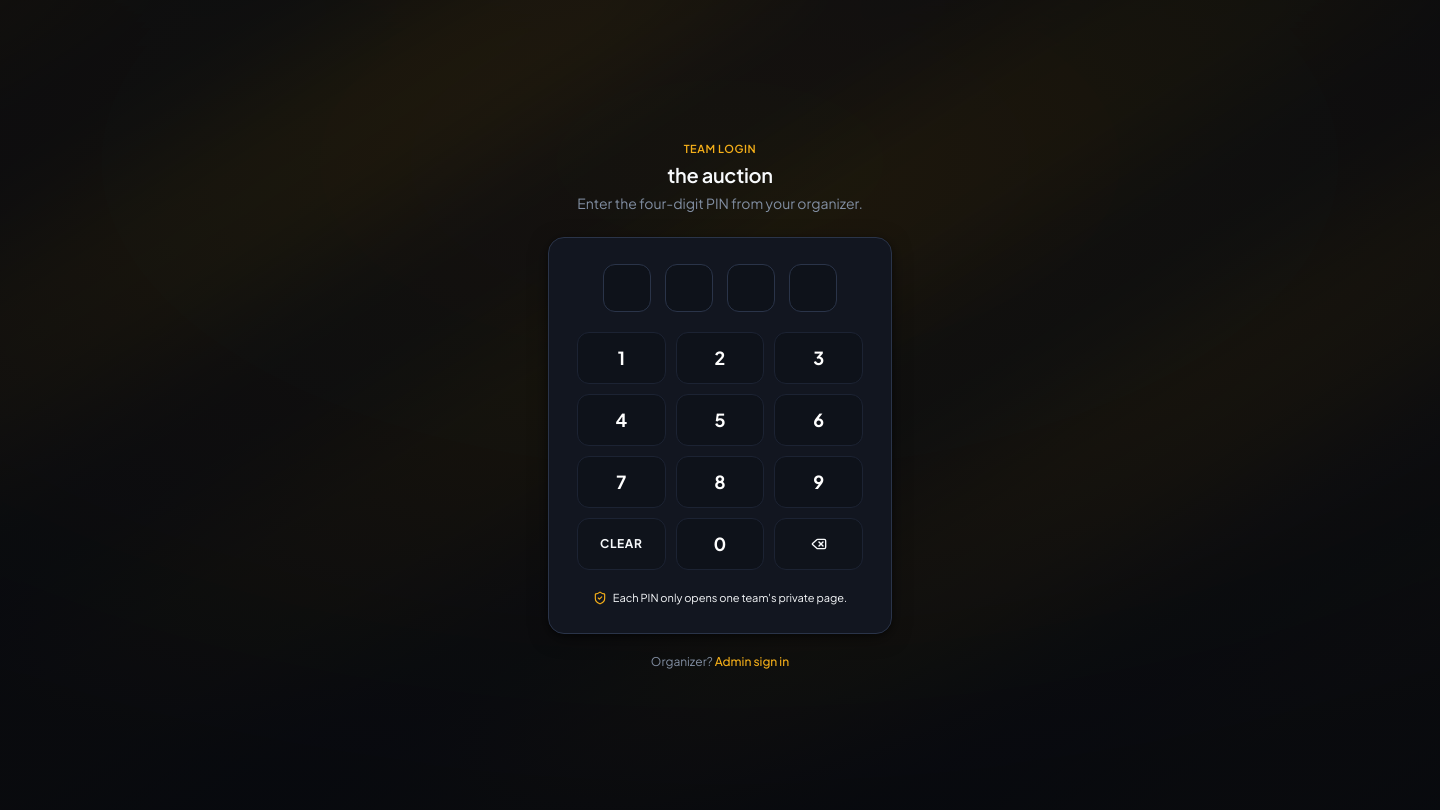
Test: TeamLoginPage › locks the keypad during a cooldown after too many attempts
Click the button "9": [819, 482] box [774, 456, 863, 508]
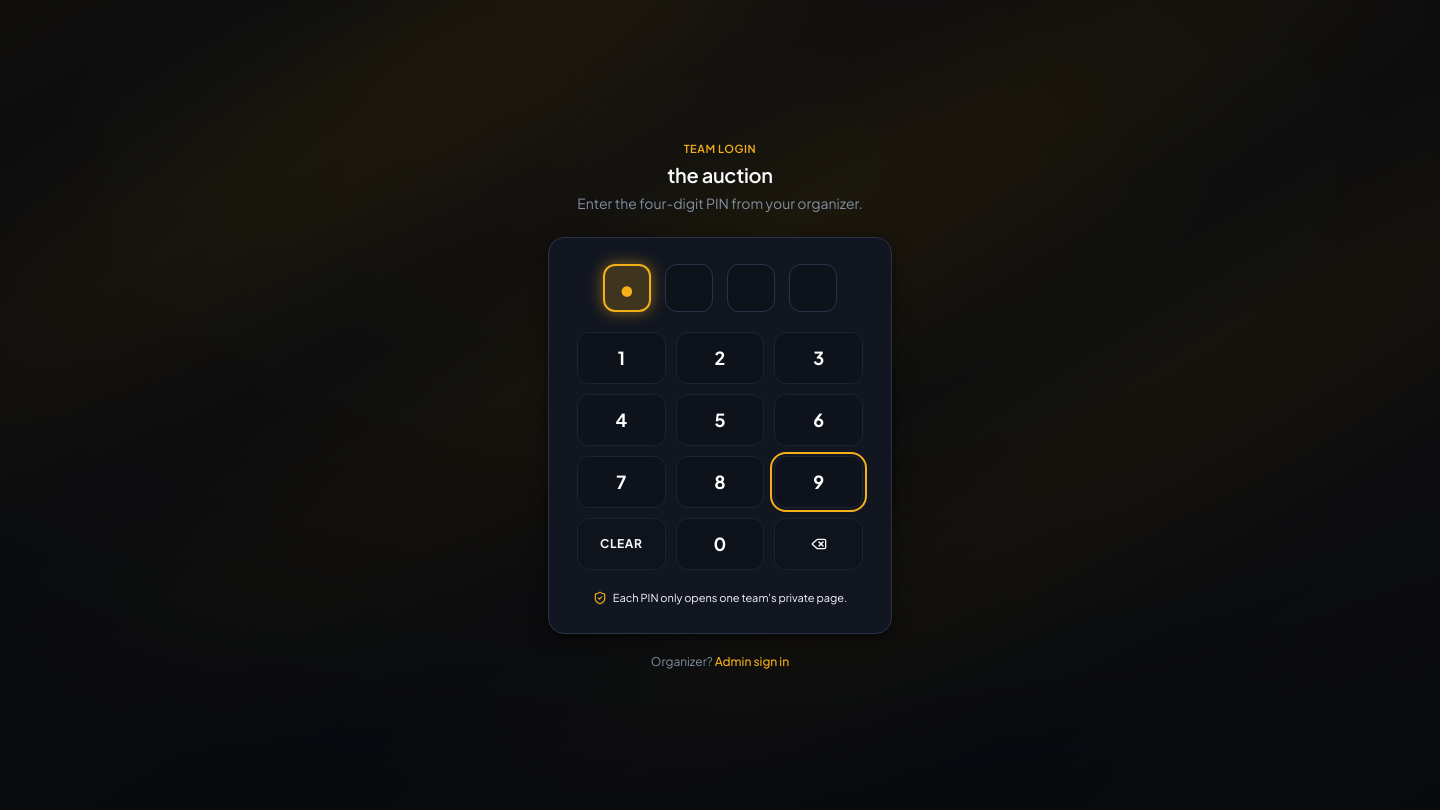
Click the button "9": [819, 482] box [774, 456, 863, 508]
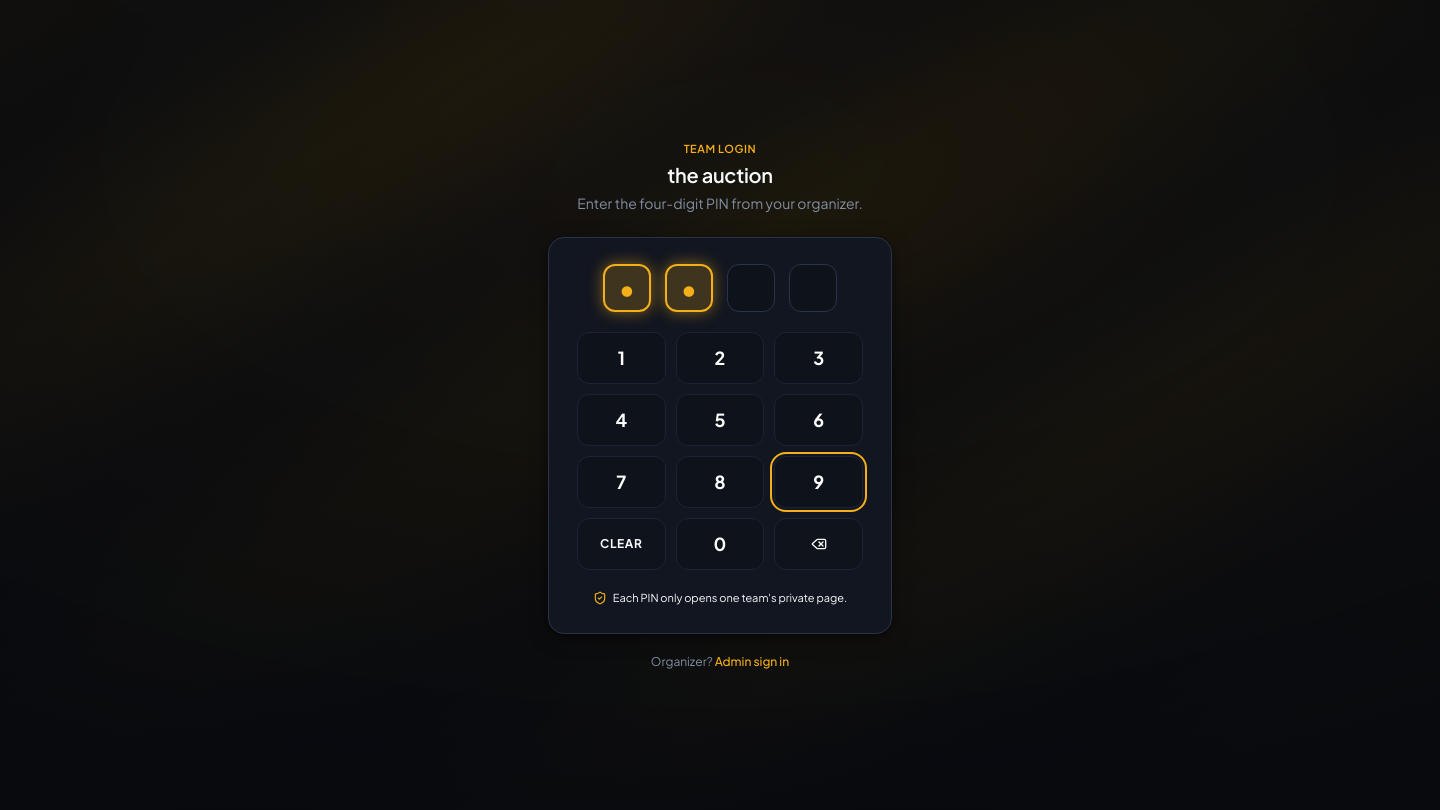
Click the button "9": [819, 482] box [774, 456, 863, 508]
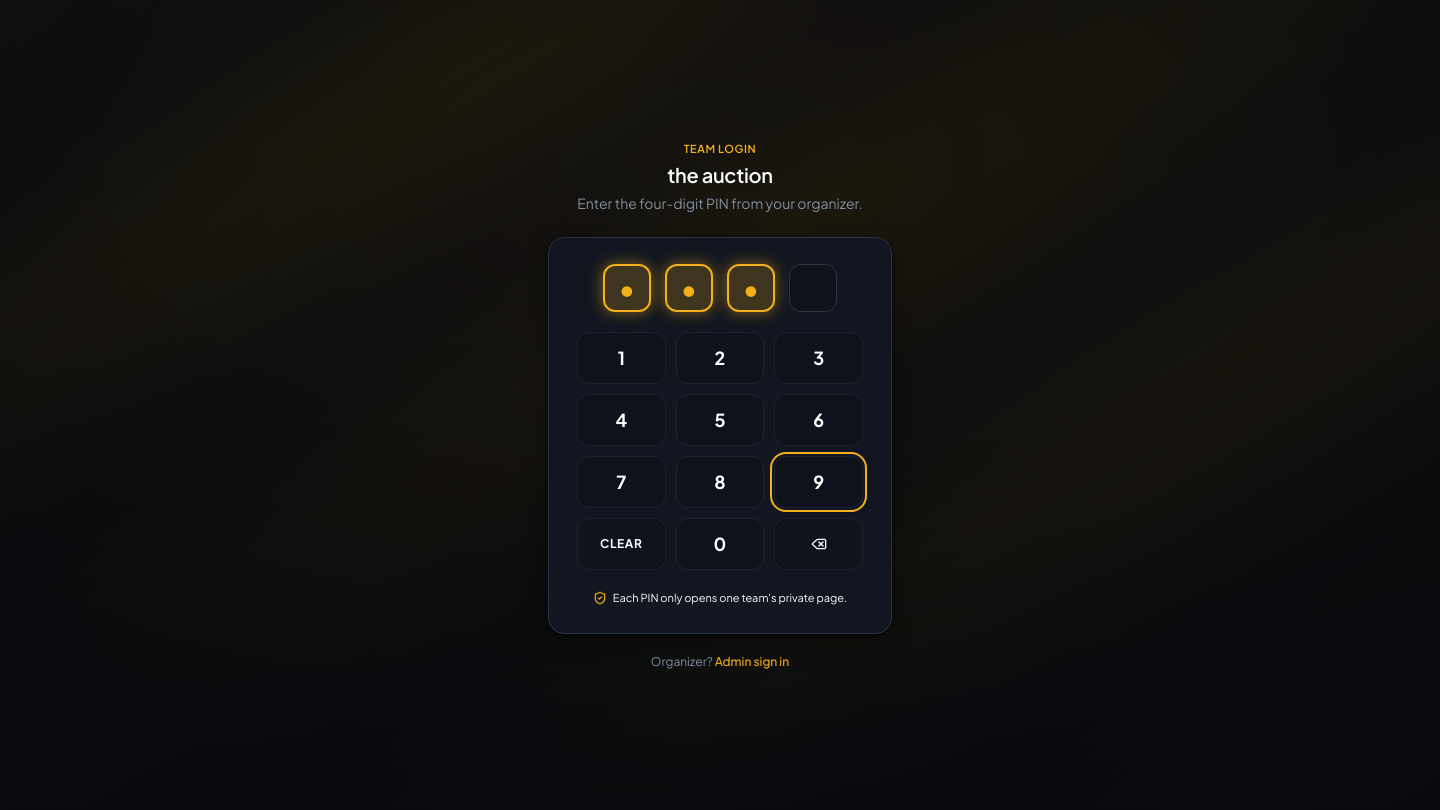
Click the button "9": [819, 482] box [774, 456, 863, 508]
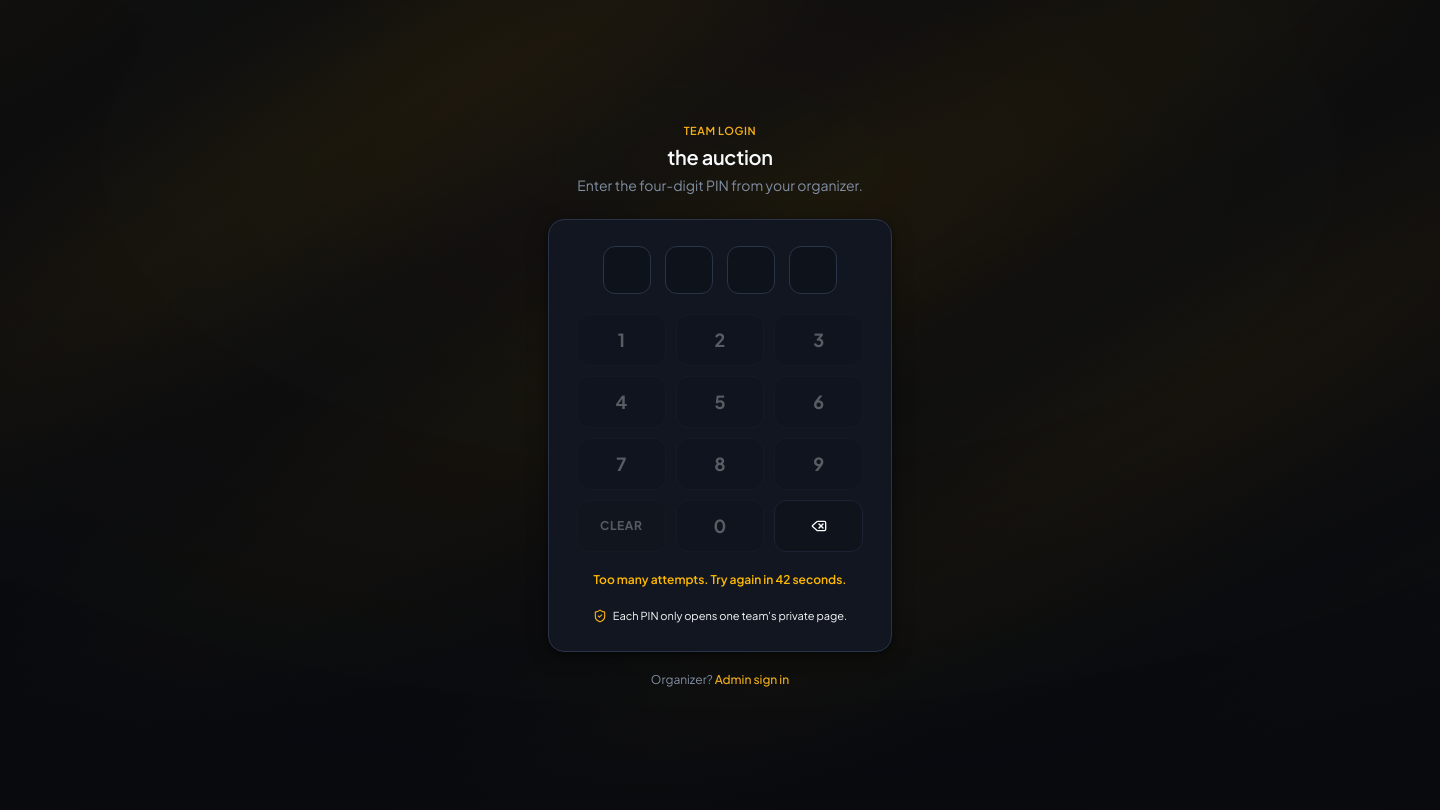
Check: the text "Too many attempts. Try again in 42 seconds." is shown, box [577, 572, 863, 588]
Check: the button "1" is disabled, box [577, 314, 666, 366]
